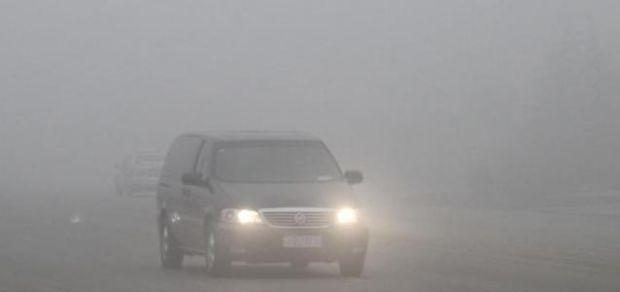car: (152, 130, 371, 279), (112, 148, 177, 195)
